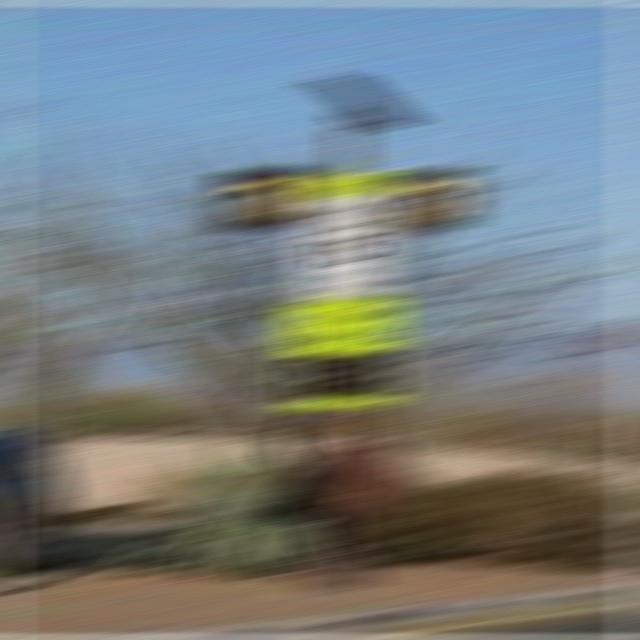speedLimit15: (290, 174, 399, 294)
